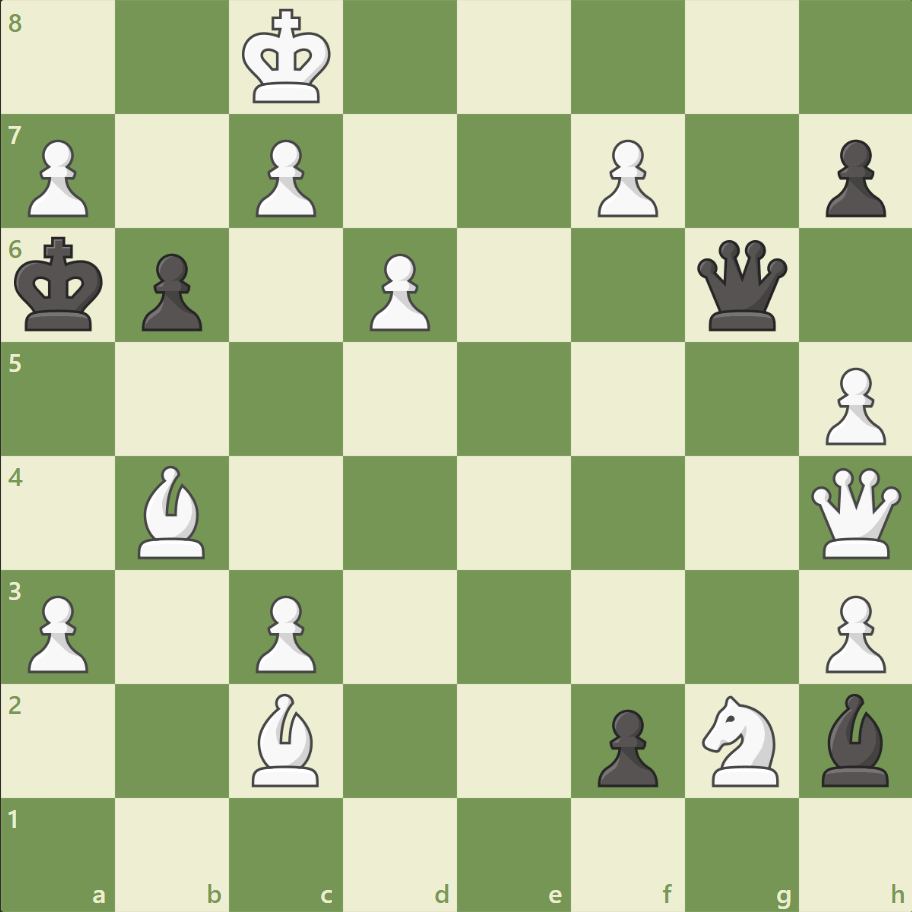B: (131, 460, 215, 563), (244, 687, 328, 790)
K: (238, 4, 338, 112)
N: (692, 688, 789, 791)
P: (20, 132, 95, 223), (247, 132, 322, 223), (20, 586, 95, 677), (247, 586, 322, 677), (588, 132, 662, 223), (361, 246, 435, 337), (815, 359, 889, 450), (815, 586, 889, 677)
Q: (805, 463, 904, 562)
b: (812, 687, 896, 790)
k: (11, 231, 111, 339)
p: (133, 246, 208, 337), (815, 132, 889, 223), (588, 700, 662, 791)
q: (691, 236, 790, 335)
